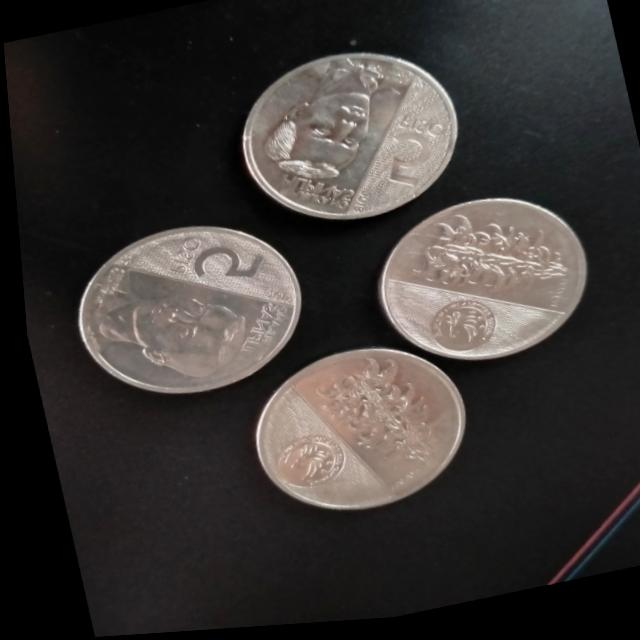5_New_Back: (393, 193, 578, 326), (298, 345, 442, 491)
5_New_Front: (143, 218, 265, 308), (360, 105, 470, 204)
